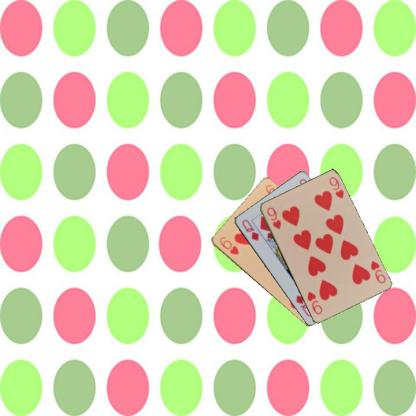6h: (217, 234, 240, 256)
9h: (368, 258, 386, 285), (264, 204, 282, 230)
Qd: (239, 217, 260, 242)
